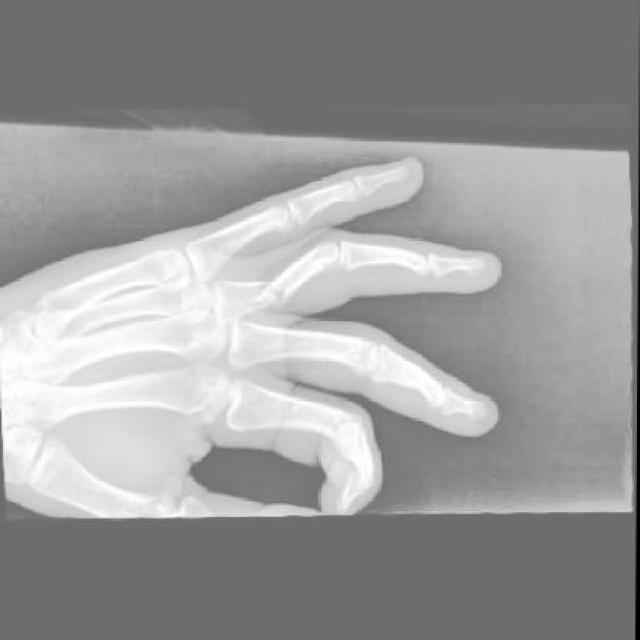Fracture: (251, 280, 295, 314)
